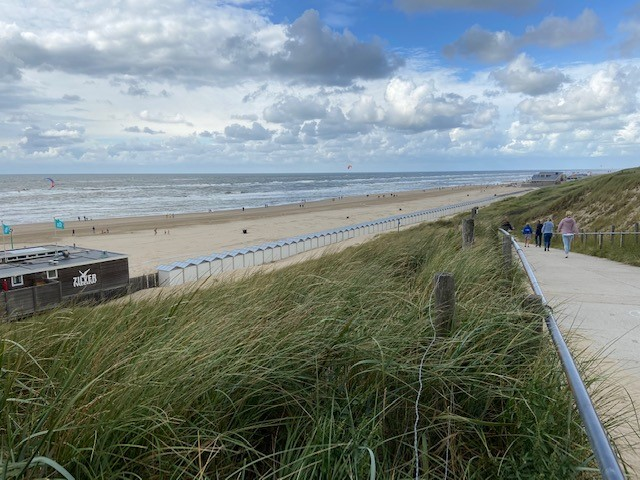zilvermeeuw: (1, 239, 139, 318)
